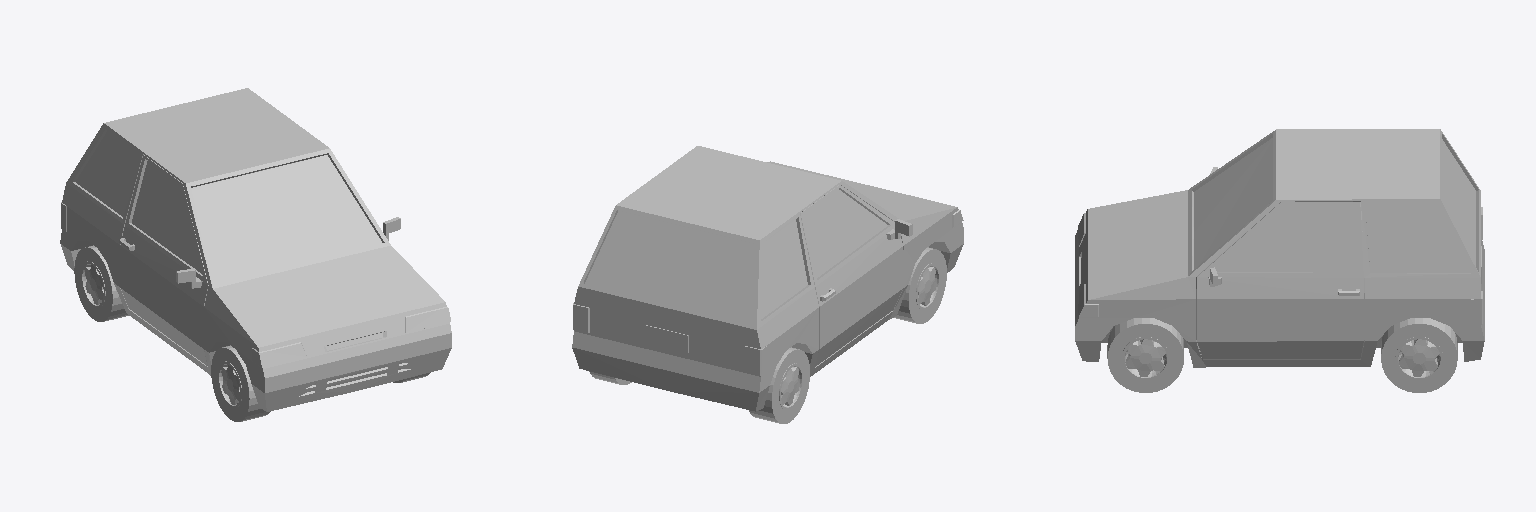
Rendered from car.obj.
3 views of the same model, side by side, from view 1: azimuth 30°, elevation 25°; view 2: azimuth 150°, elevation 25°; view 3: azimuth 270°, elevation 25° (orthographic).
Visible parts, largest first — view 1: car_body_Circle.169, windows_Circle.158, door_r_Circle.167, win_door_r.001_Circle.159, wheel_fr_Circle.161, wheel_br_Circle.163; view 2: car_body_Circle.169, windows_Circle.158, door_r_Circle.167, win_door_r.001_Circle.159, wheel_br_Circle.163, wheel_fr_Circle.161, number_Circle.165; view 3: car_body_Circle.169, door_l_Circle.168, windows_Circle.158, win_door_l.001_Circle.160, wheel_bl_Circle.164, wheel_fl_Circle.162.
Part boxes in pixels (left/top/right/bottom): car_body_Circle.169: left=60, top=88, right=451, bottom=411; windows_Circle.158: left=76, top=131, right=381, bottom=283; door_r_Circle.167: left=119, top=155, right=208, bottom=365; win_door_r.001_Circle.159: left=132, top=161, right=201, bottom=273; wheel_fr_Circle.161: left=211, top=345, right=270, bottom=421; wheel_br_Circle.163: left=74, top=245, right=128, bottom=321; car_body_Circle.169: left=572, top=146, right=963, bottom=411; windows_Circle.158: left=585, top=211, right=807, bottom=324; door_r_Circle.167: left=800, top=185, right=912, bottom=366; win_door_r.001_Circle.159: left=804, top=189, right=887, bottom=277; wheel_br_Circle.163: left=749, top=347, right=809, bottom=423; wheel_fr_Circle.161: left=894, top=247, right=946, bottom=323; number_Circle.165: left=646, top=325, right=688, bottom=352; car_body_Circle.169: left=1075, top=129, right=1484, bottom=367; door_l_Circle.168: left=1196, top=202, right=1364, bottom=359; windows_Circle.158: left=1194, top=138, right=1475, bottom=272; win_door_l.001_Circle.160: left=1215, top=204, right=1358, bottom=272; wheel_bl_Circle.164: left=1381, top=318, right=1457, bottom=392; wheel_fl_Circle.162: left=1107, top=318, right=1183, bottom=392.
Bounding box in the file's own units: 2.18 × 1.71 × 3.46.